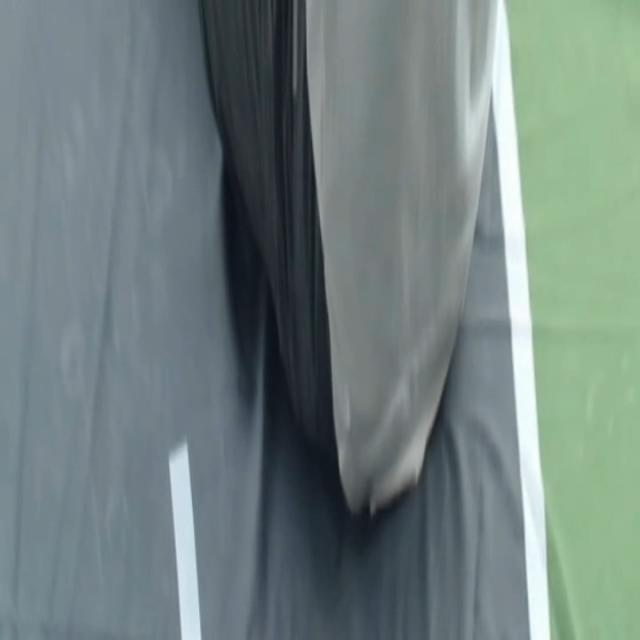center: (169, 442, 201, 639)
right: (492, 0, 550, 639)
